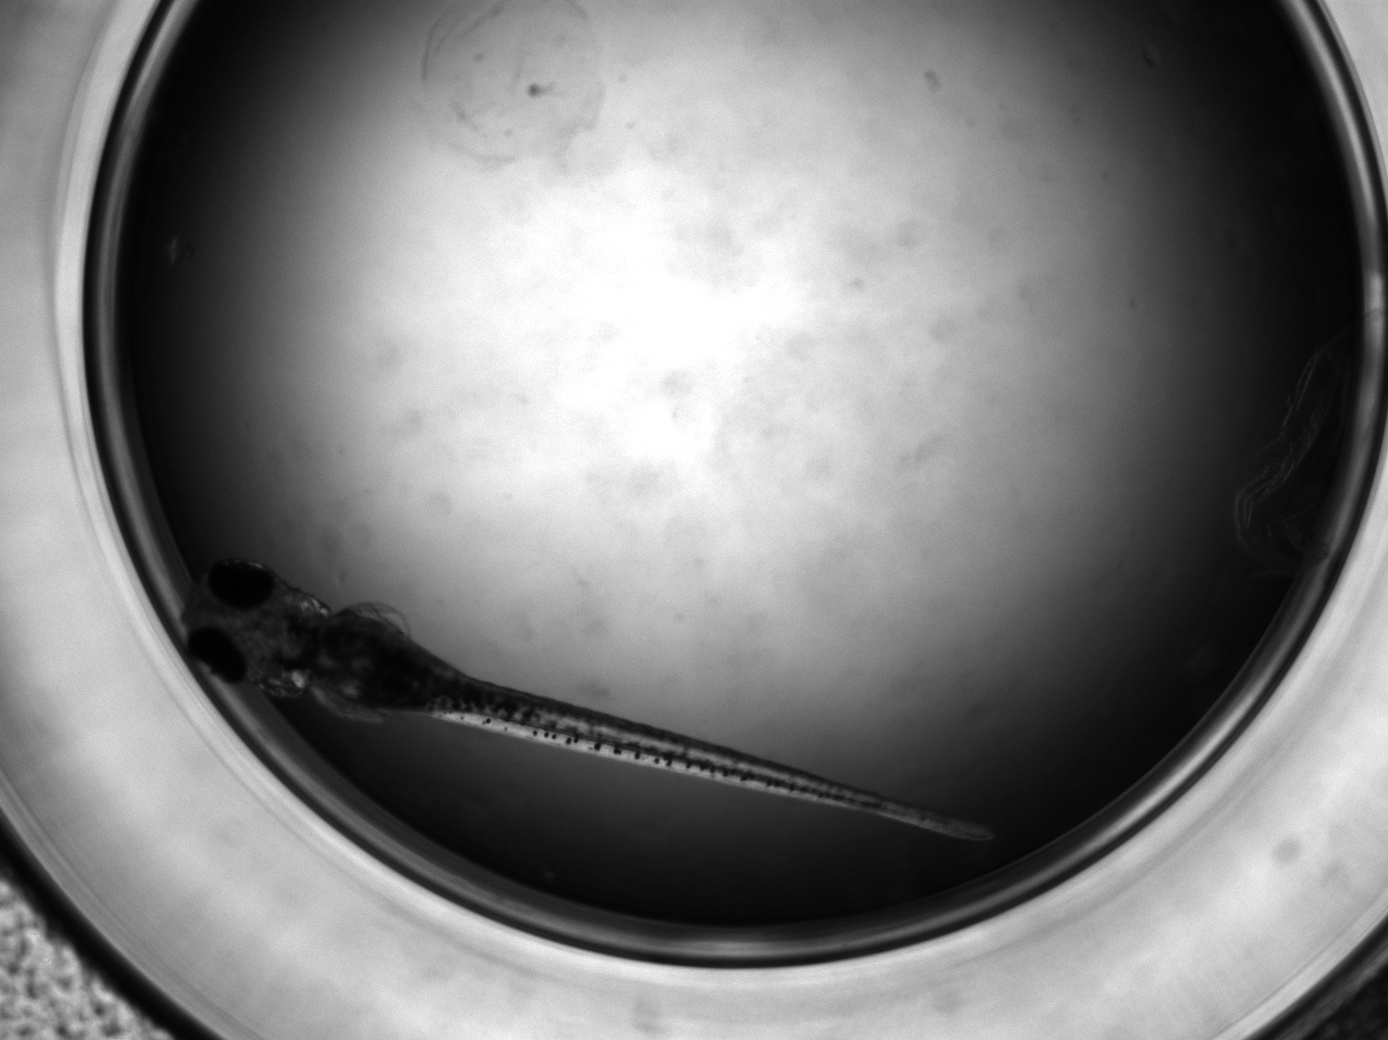embryo: (178, 555, 993, 844)
eye: (201, 556, 276, 611), (183, 625, 249, 686)
yolksac: (309, 608, 464, 718)
